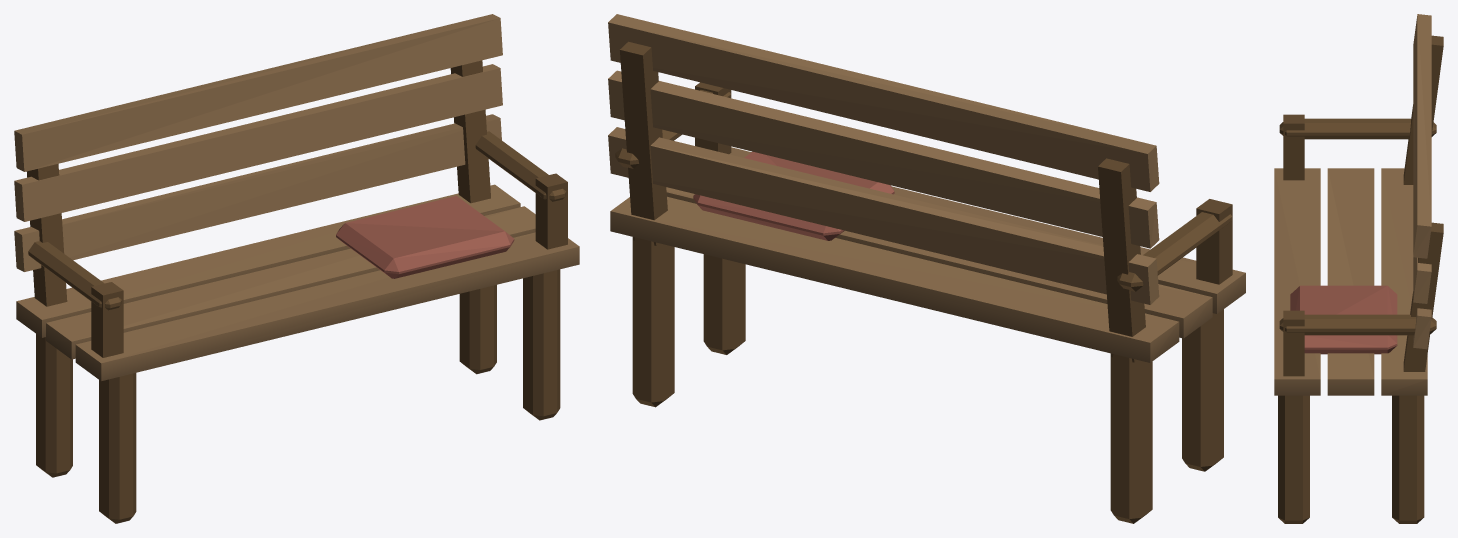
File: bench-01.glb
The picture shows the model from 3 angles, left to right: view 1: azimuth 30°, elevation 25°; view 2: azimuth 150°, elevation 25°; view 3: azimuth 270°, elevation 25°; orthographic projection. The views are drawn at different scales.
Visible parts, largest first — view 1: bench_01; view 2: bench_01; view 3: bench_01.
Part boxes in pixels (x1,y1,x2,y2): bench_01: [14, 14, 579, 523]; bench_01: [608, 14, 1245, 523]; bench_01: [1274, 14, 1443, 523].
Size of the model in its own units: 1.4 by 0.952 by 0.4747.
